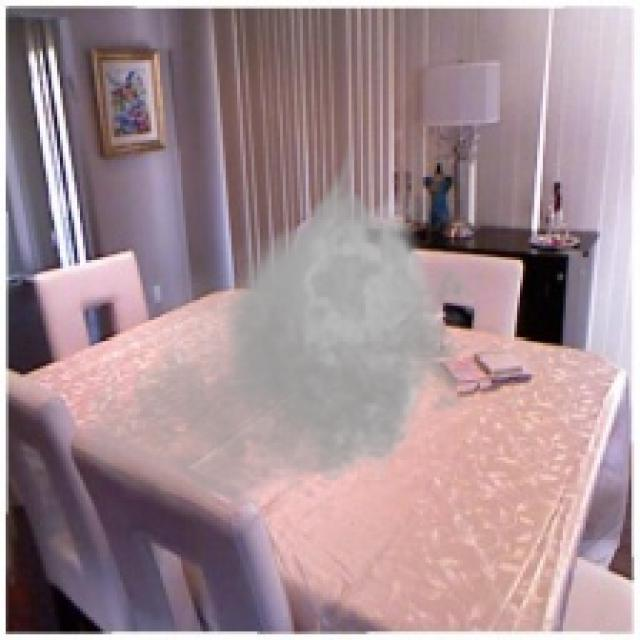Smoke: (77, 134, 492, 523)
